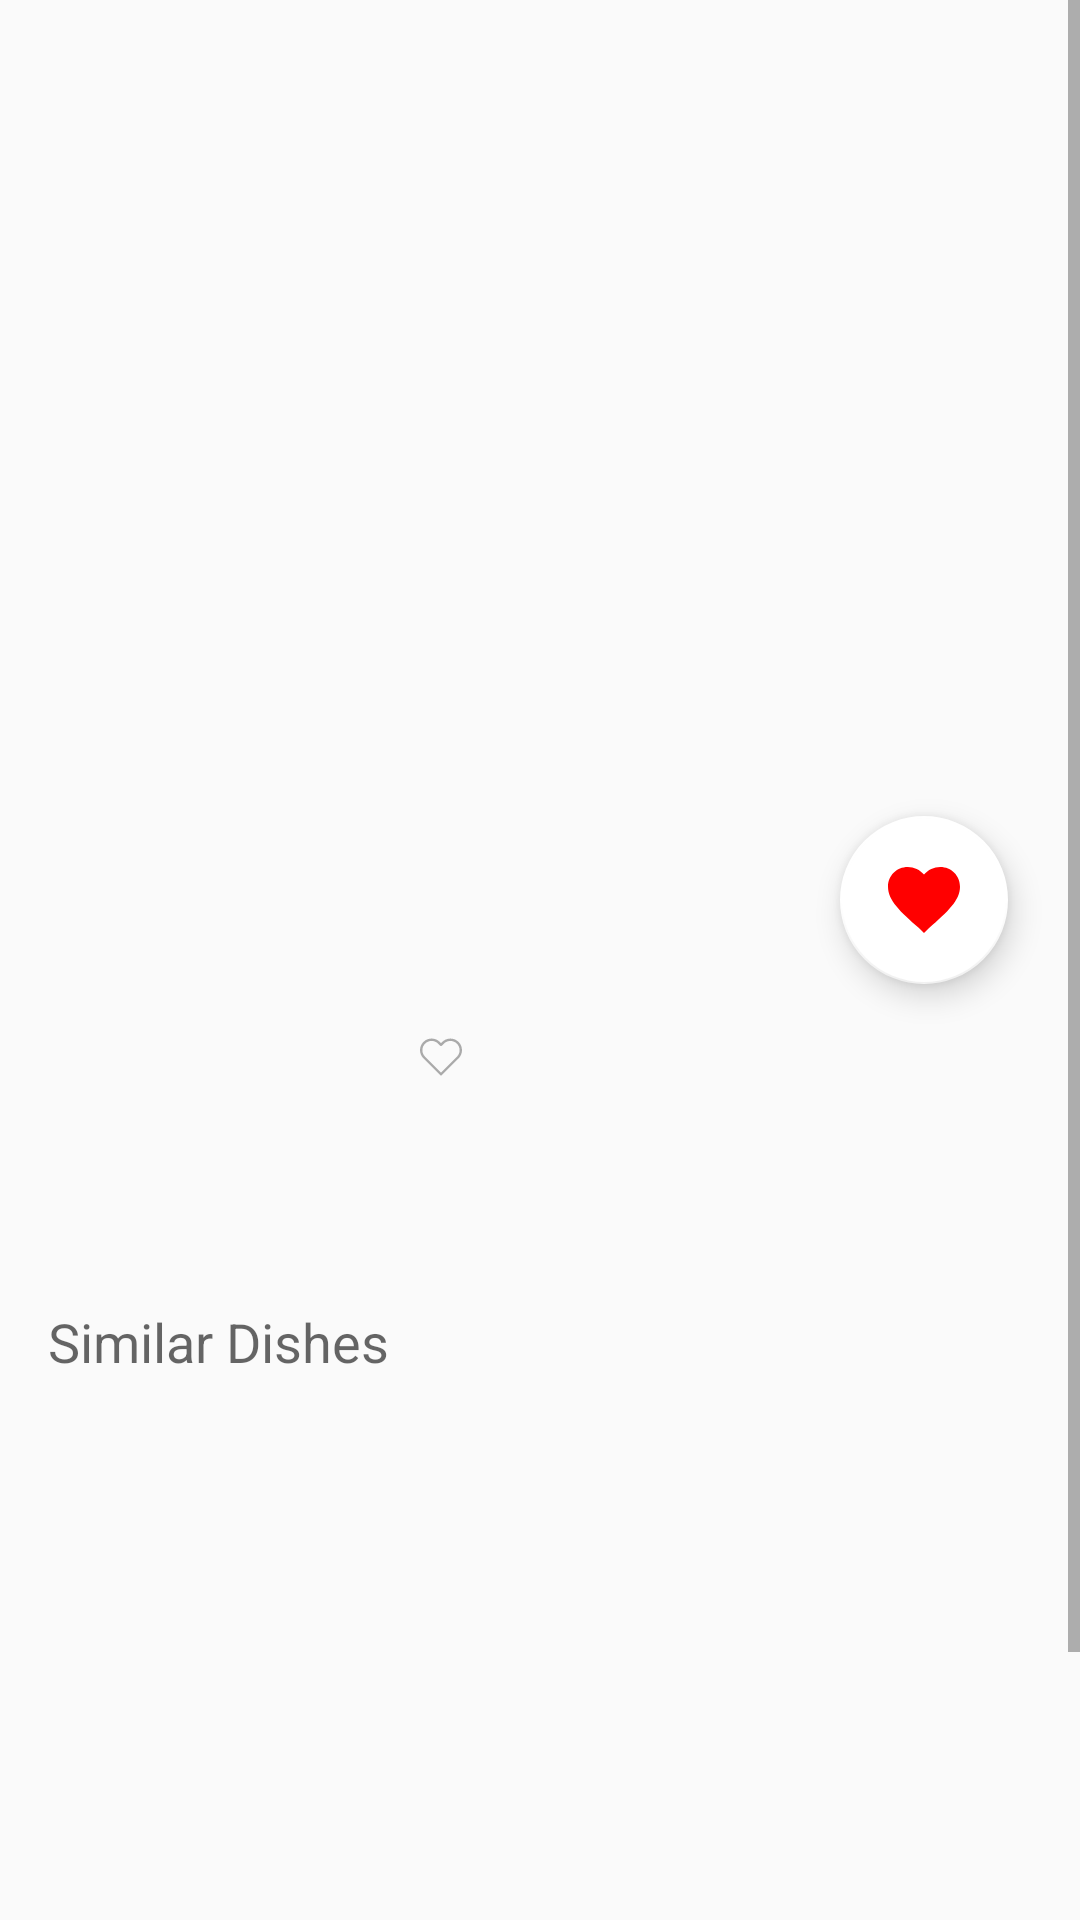

Icon click points for this 1080×1920 phone screenshot, format (x,y):
heart: (927,905), (441,1057)
